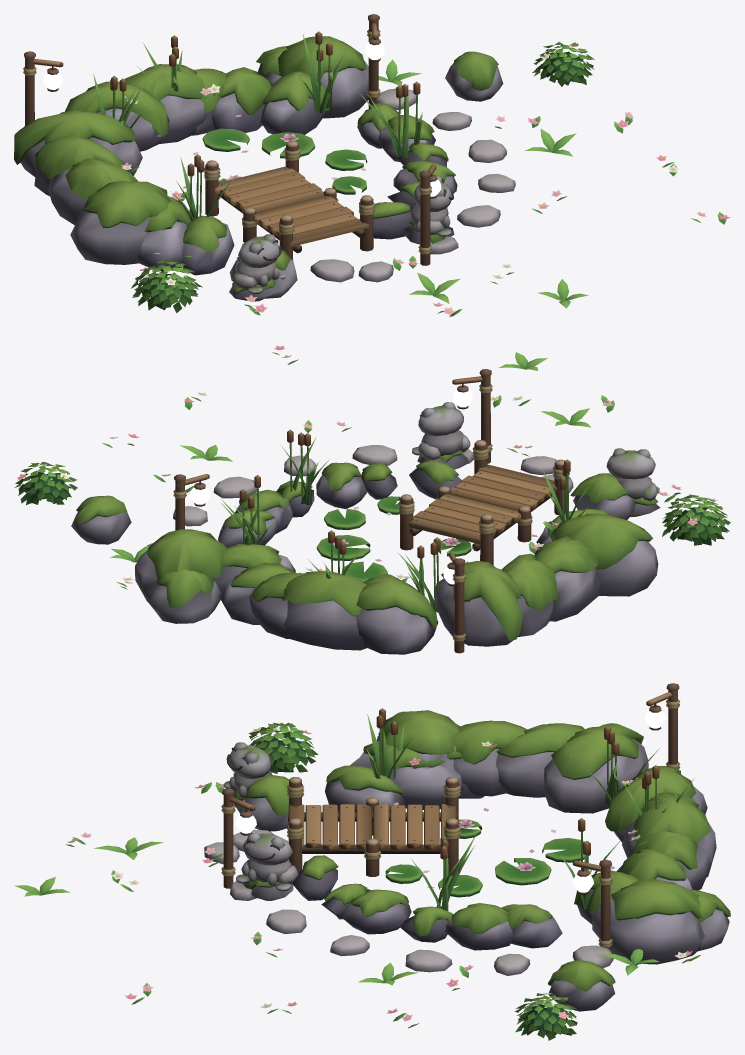
File: poi-moonpond-0.glb
3 views of the same model, one above another, from view 1: azimuth 30°, elevation 25°; view 2: azimuth 150°, elevation 25°; view 3: azimuth 270°, elevation 25° (orthographic). The views are drawn at different scales.
Visible parts, largest first — view 1: body, leaf, window_glow; view 2: body, leaf, window_glow; view 3: body, leaf, window_glow.
Part boxes in pixels (box(x1,y1,x2,y2)): body: box(14, 14, 515, 301); leaf: box(118, 42, 730, 316); window_glow: box(43, 42, 441, 196); body: box(71, 369, 660, 654); leaf: box(14, 345, 730, 589); window_glow: box(190, 389, 472, 584); body: box(204, 683, 730, 1011); leaf: box(14, 722, 700, 1040); window_glow: box(235, 710, 665, 892).
Size of the model in its own units: 11.31 by 2.1 by 11.45.
